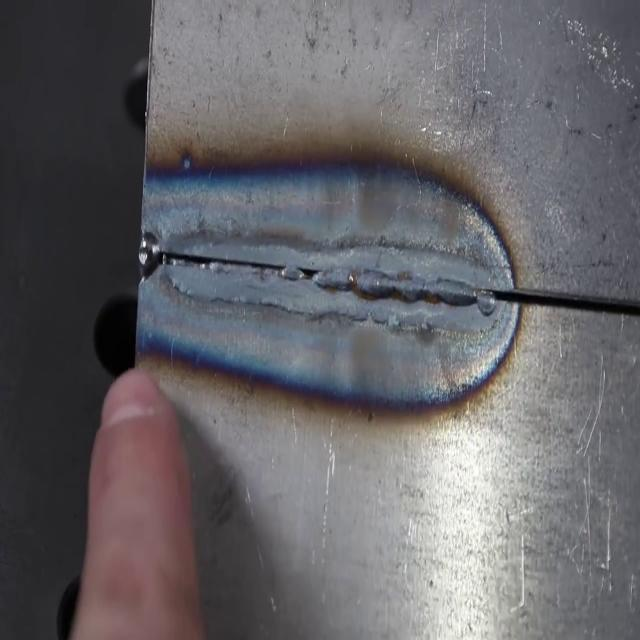Defect: (139, 220, 501, 332)
